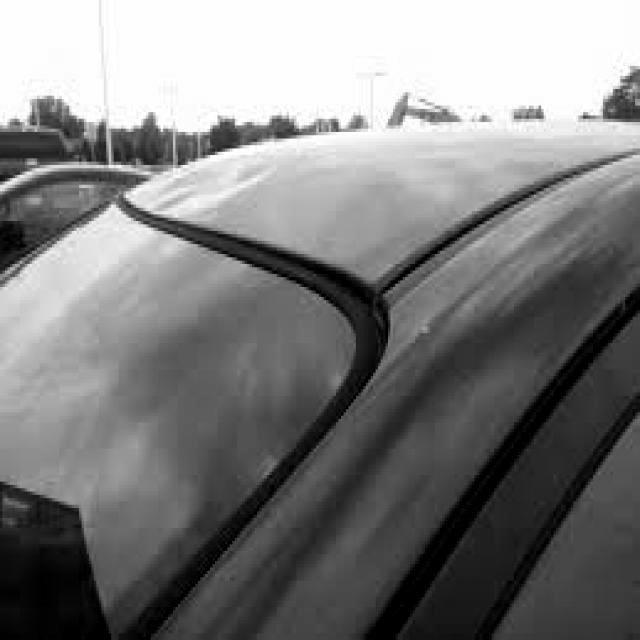roof-dent: (161, 136, 316, 220)
